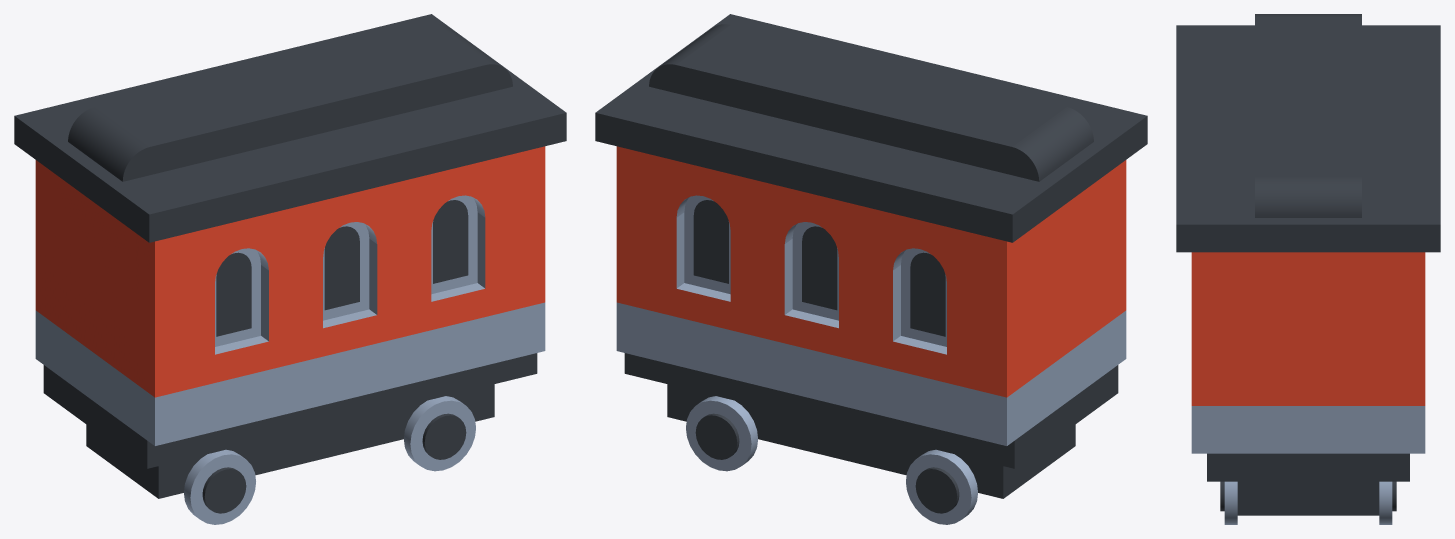
File: trainWagonShort.fbx
3 renders of one model, left to right at view 1: azimuth 30°, elevation 25°; view 2: azimuth 150°, elevation 25°; view 3: azimuth 270°, elevation 25°, orthographic. The views are drawn at different scales.
Parts seen in each view (by area): view 1: trainWagonShort; view 2: trainWagonShort; view 3: trainWagonShort.
Boxes of the visible parts, box(x1,y1,x2,y2) form: trainWagonShort: box(14, 14, 566, 524); trainWagonShort: box(595, 14, 1147, 524); trainWagonShort: box(1176, 14, 1440, 524).
Size of the model in its own units: 3.08 by 2.68 by 1.73.
